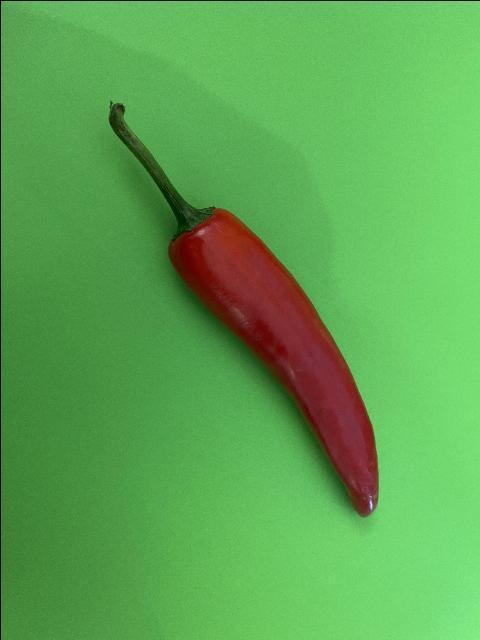chilli: (106, 100, 380, 520)
